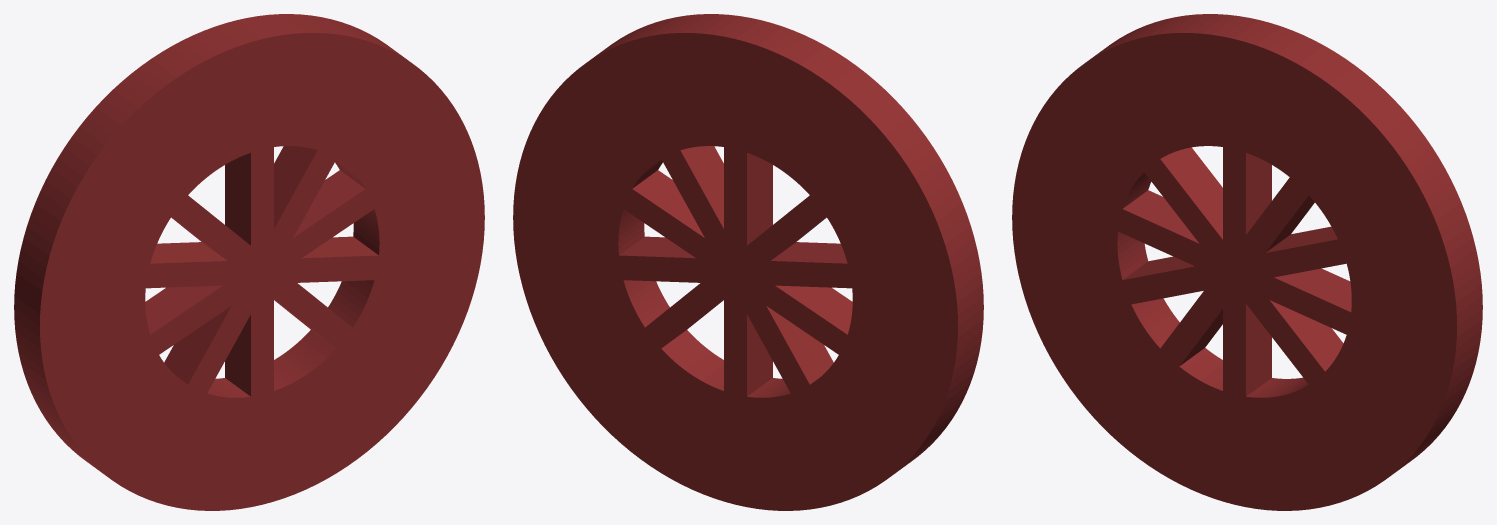
The model's file is roue.fbx.
3 renders of one model, left to right at view 1: azimuth 30°, elevation 25°; view 2: azimuth 150°, elevation 25°; view 3: azimuth 330°, elevation 25°, orthographic.
Parts seen in each view (by area): view 1: Cylinder; view 2: Cylinder; view 3: Cylinder.
Boxes of the visible parts, x1=… form: Cylinder: x1=14, y1=14, x2=484, y2=510; Cylinder: x1=513, y1=14, x2=983, y2=510; Cylinder: x1=1012, y1=14, x2=1482, y2=510.
Size of the model in its own units: 238 by 238 by 23.87.
